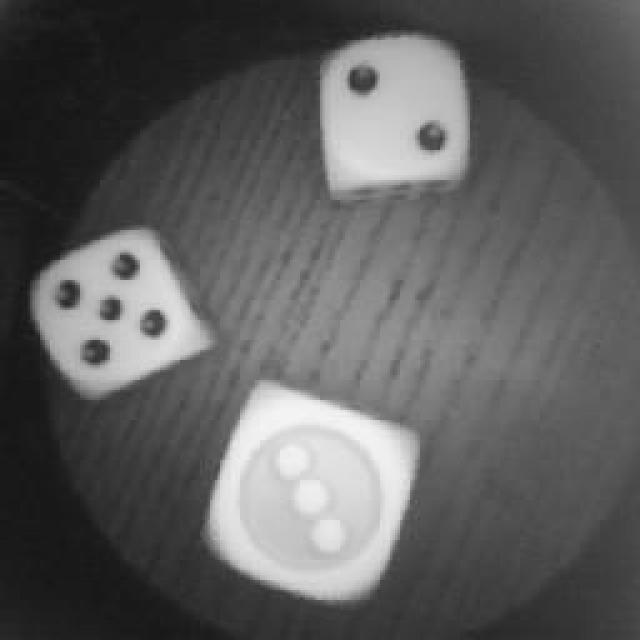dice_2: (312, 28, 478, 200)
dice_3: (207, 380, 405, 598)
dice_5: (20, 235, 198, 400)
